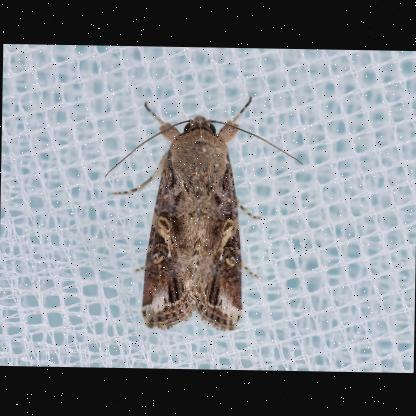Fall Armyworm Moth: (99, 90, 307, 336)
